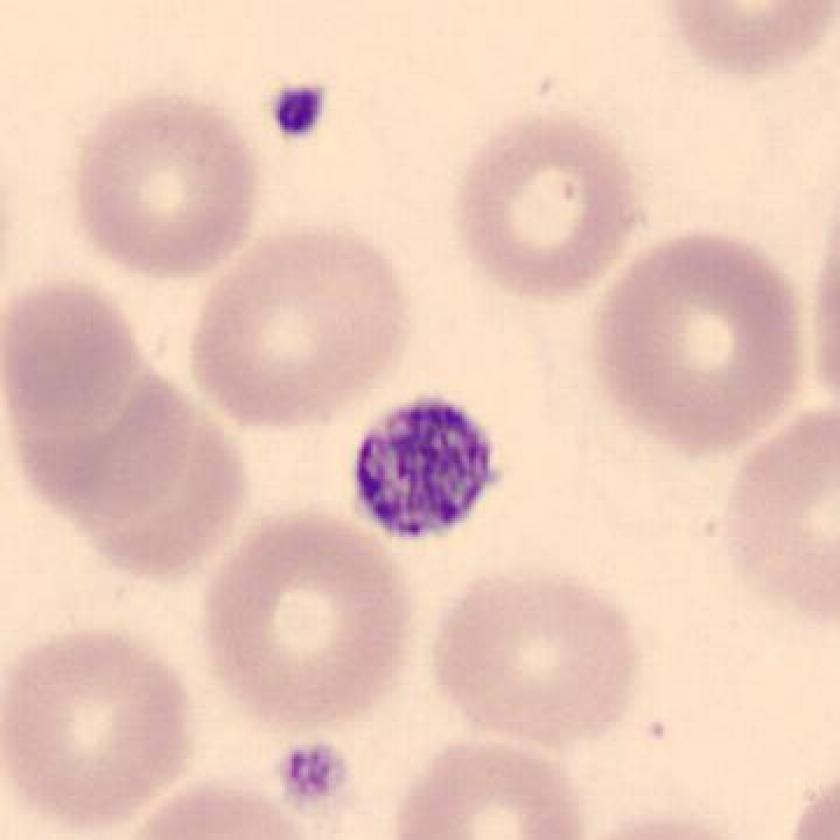platelets: (339, 388, 505, 554), (270, 725, 361, 820), (255, 68, 342, 156)
